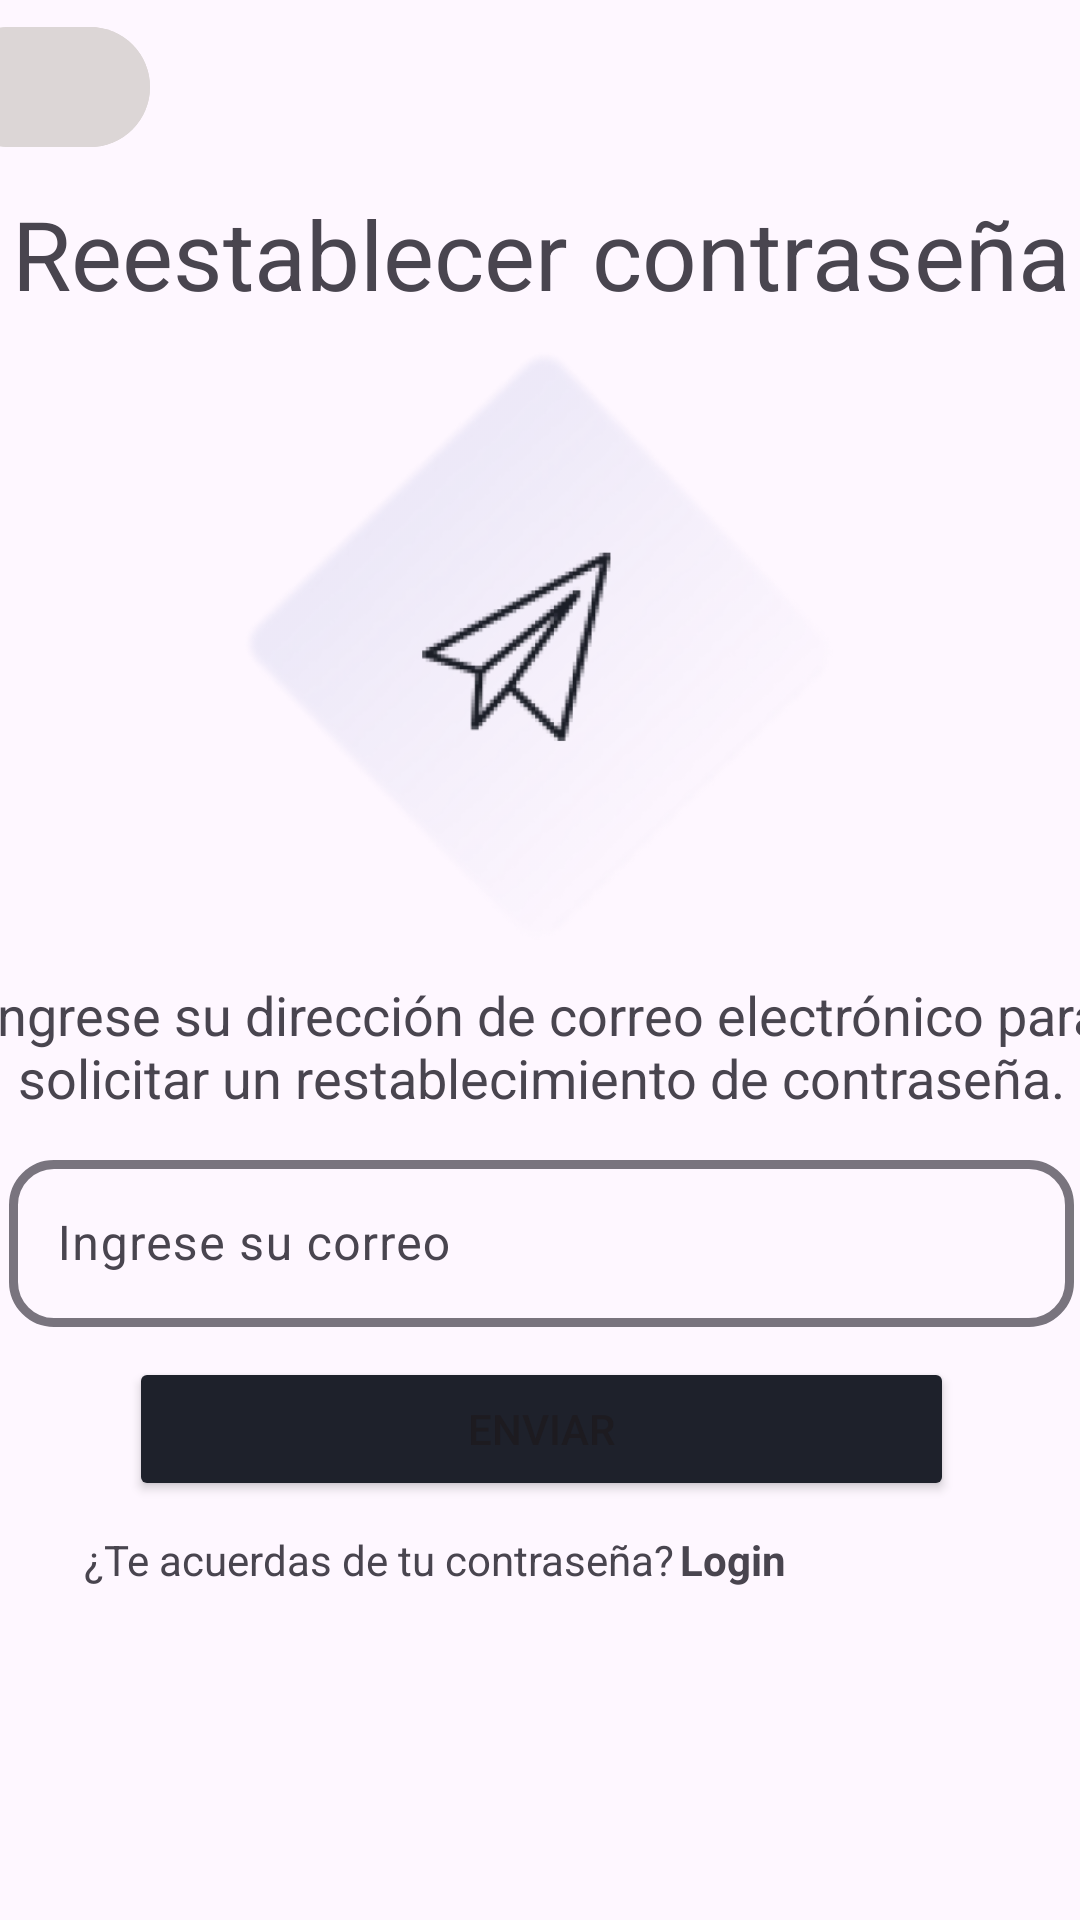

Icon click points for this 1080px x 1920px phone screenshot, format [x,y]:
password reset send: [516,646]
